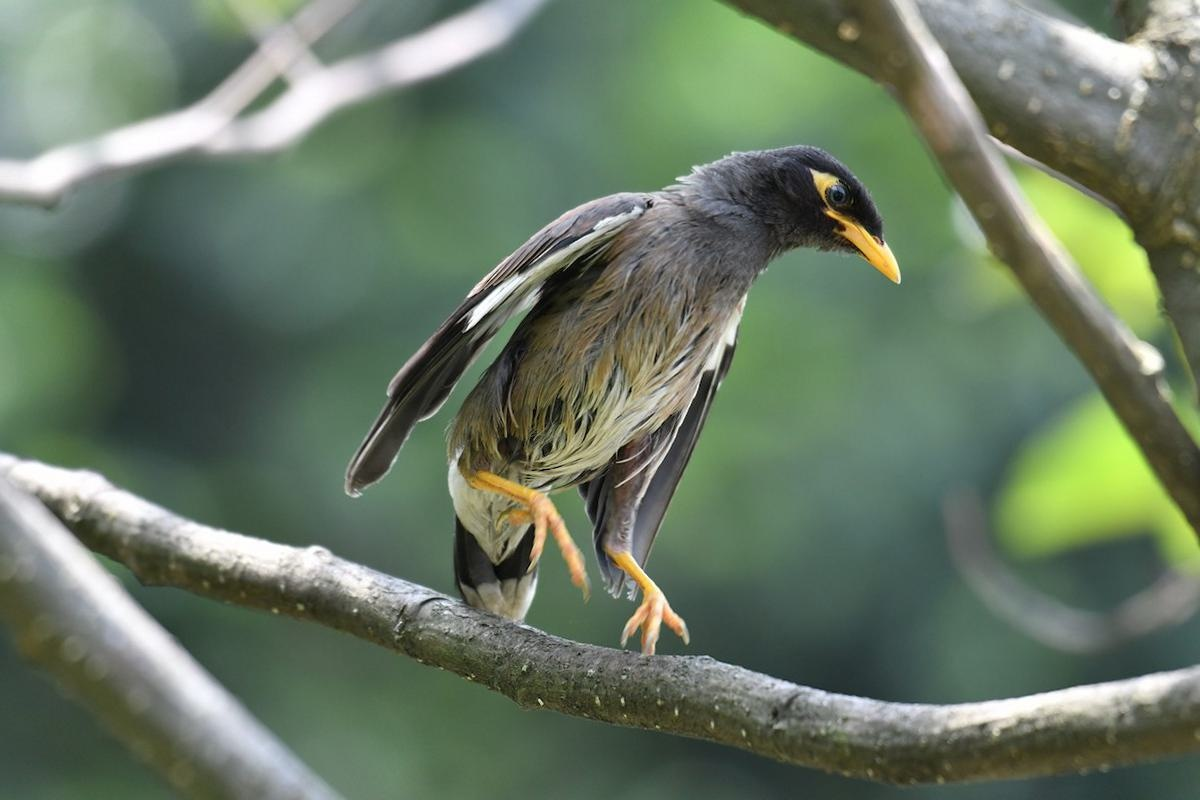myna: (313, 116, 913, 636)
